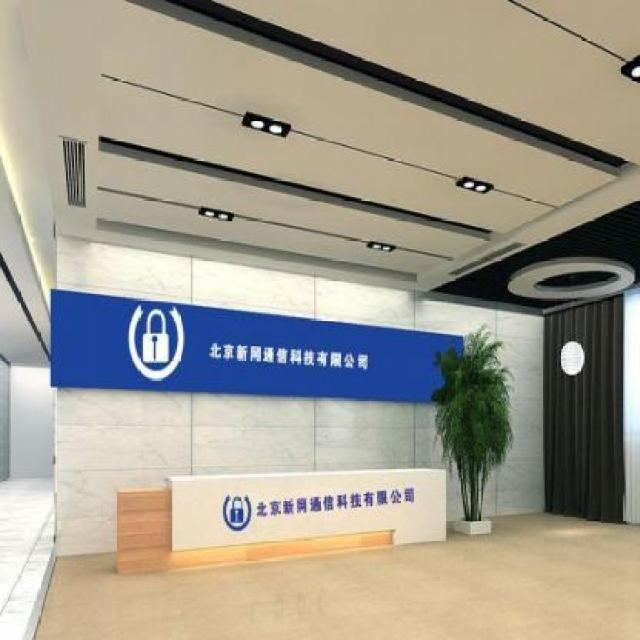frontdesk: (103, 462, 453, 579)
